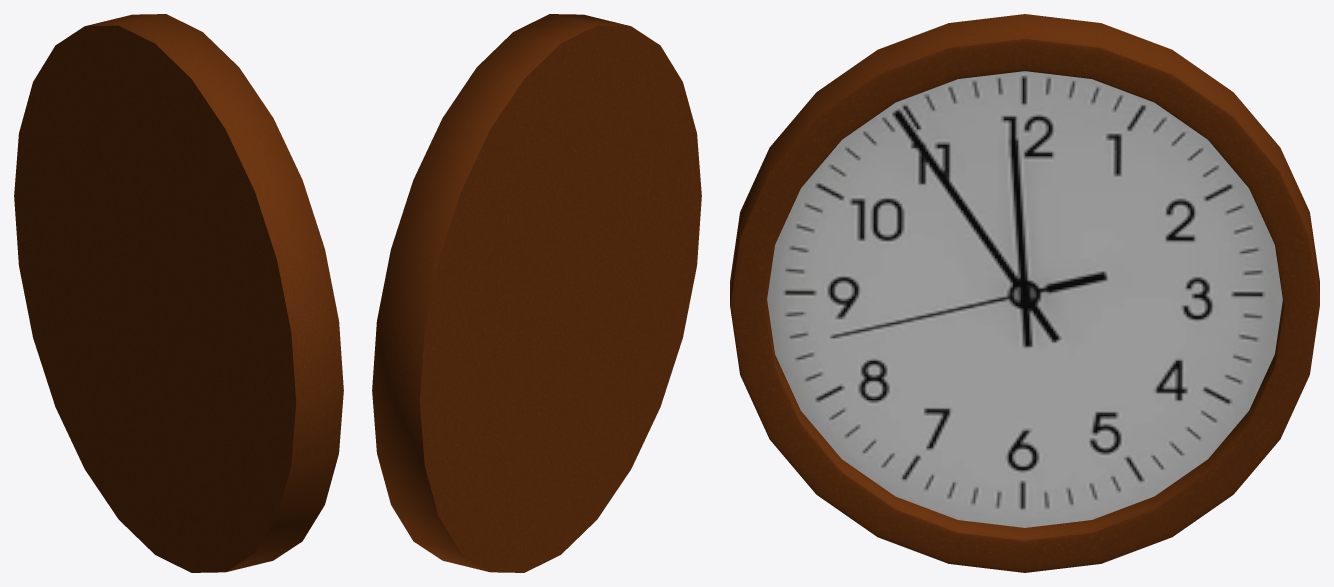
The model's file is clock.obj.
3 views of the same model, side by side, from view 1: azimuth 30°, elevation 25°; view 2: azimuth 150°, elevation 25°; view 3: azimuth 270°, elevation 25° (orthographic). The views are drawn at different scales.
Parts seen in each view (by area): view 1: clock; view 2: clock; view 3: clock.
Part boxes in pixels (bbox=[...]): clock: bbox=[14, 14, 343, 572]; clock: bbox=[372, 14, 701, 572]; clock: bbox=[730, 14, 1319, 572].
Size of the model in its own units: 0.02 by 0.2 by 0.2.
2 materials, 2 textured.
